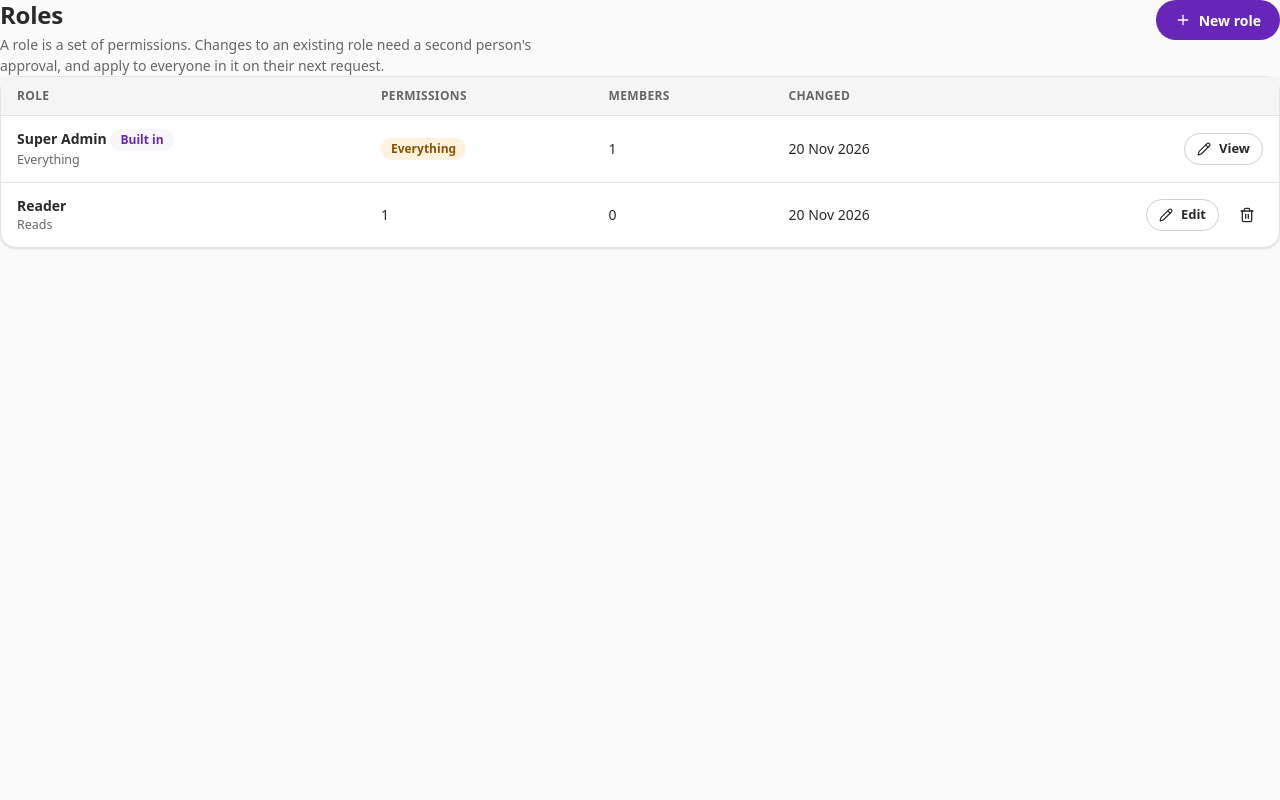
Test: roles and staff › will not let you grant a permission you do not hold
Click the button "New role".
click(1218, 20)  # box 1156,0 -> 1279,40
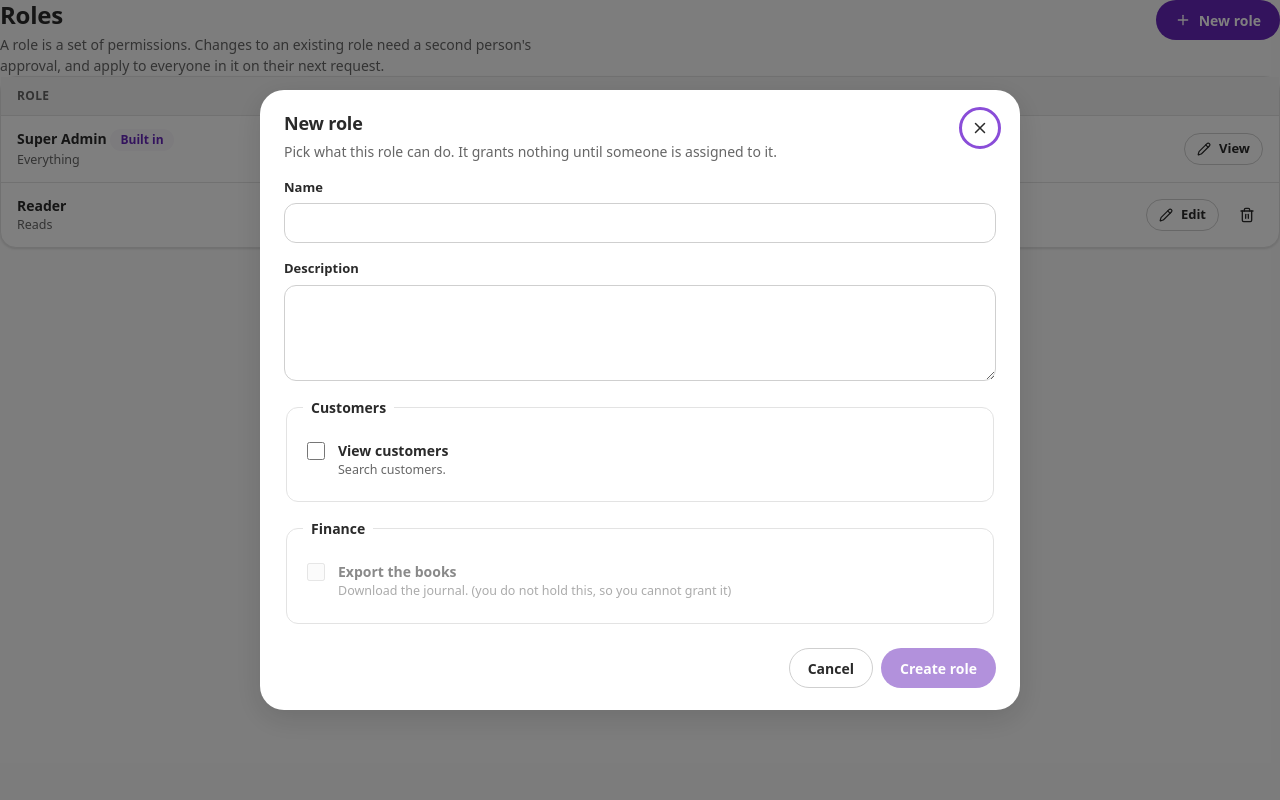
Check: the checkbox labelled "Export the books" is disabled, box 307,563 -> 325,581
Check: the checkbox labelled "View customers Search customers." is enabled, box 307,442 -> 325,460
Check: the text "you do not hold this" is shown, box 468,582 -> 731,599
